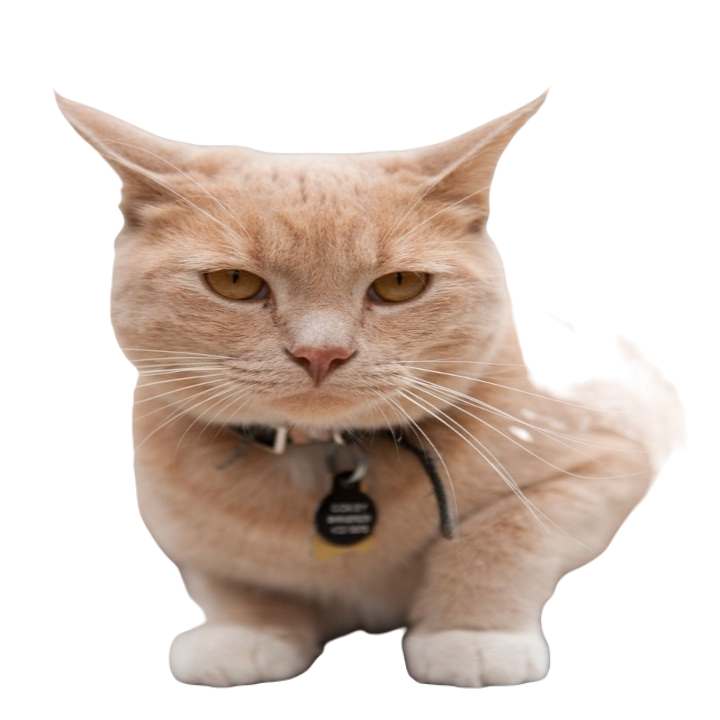Cat: (11, 78, 681, 685)
